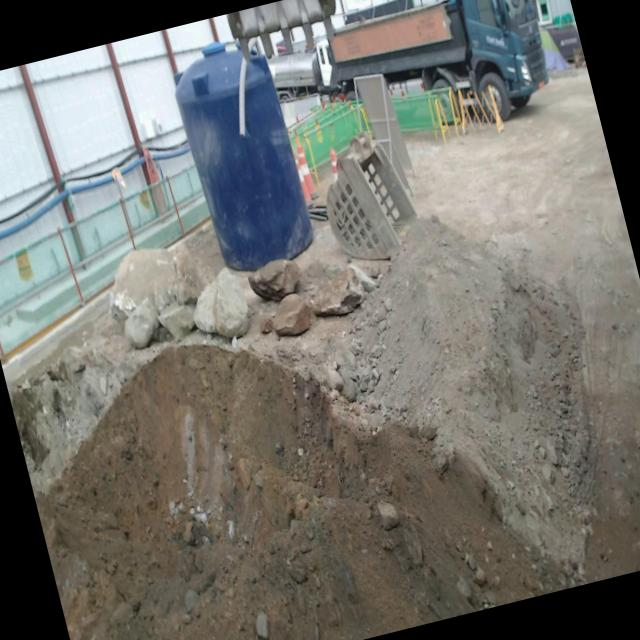red-sand: (36, 71, 640, 640)
rocks: (239, 322, 383, 401)
stone: (109, 247, 177, 323), (193, 268, 247, 337), (308, 265, 366, 315), (248, 259, 300, 300), (172, 245, 204, 303), (124, 298, 158, 348), (271, 293, 311, 335), (158, 304, 194, 339)
